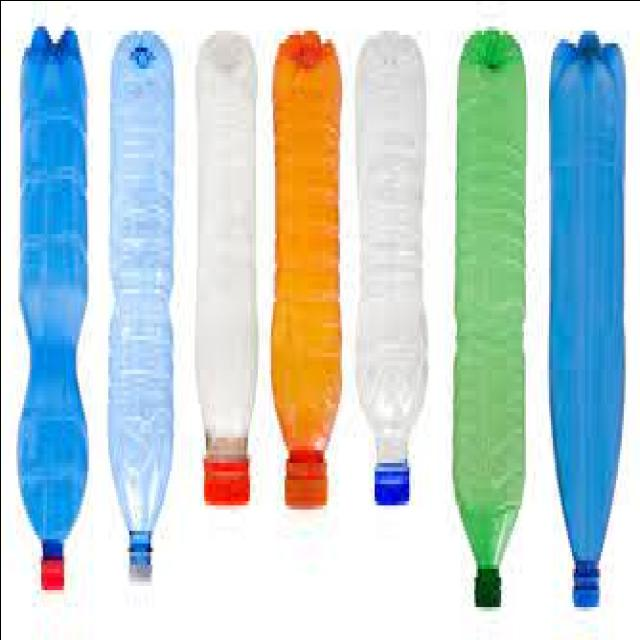plastic cup: (0, 3, 640, 637), (549, 33, 624, 604), (453, 30, 525, 607), (17, 28, 86, 590), (107, 33, 173, 576), (355, 33, 426, 505), (271, 33, 340, 507), (195, 33, 256, 505)
